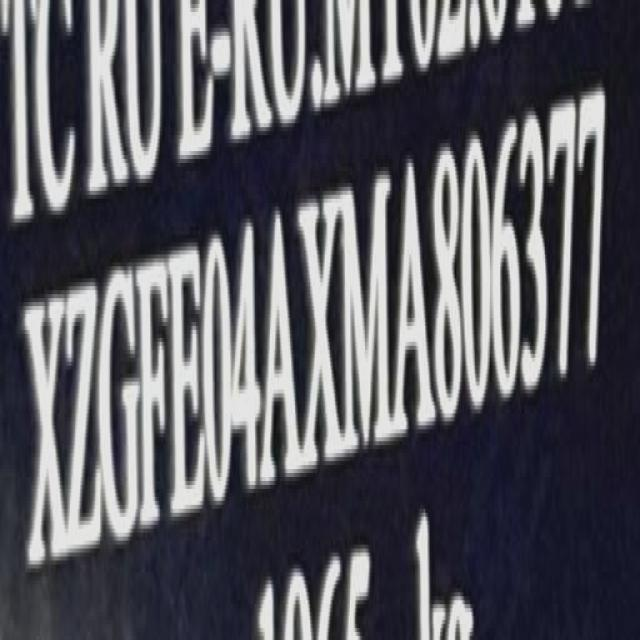0: (202, 226, 234, 516), (464, 129, 494, 420)
3: (522, 99, 552, 403)
4: (225, 224, 263, 506)
6: (491, 116, 522, 408)
7: (580, 82, 611, 398), (551, 94, 581, 398)
8: (432, 139, 464, 430)
A: (392, 148, 435, 443), (261, 201, 303, 491)
E: (169, 241, 205, 517)
F: (136, 248, 170, 540)
G: (101, 258, 142, 552)
M: (339, 168, 396, 456)
X: (300, 184, 344, 474), (26, 284, 67, 577)
Z: (61, 277, 100, 569)
